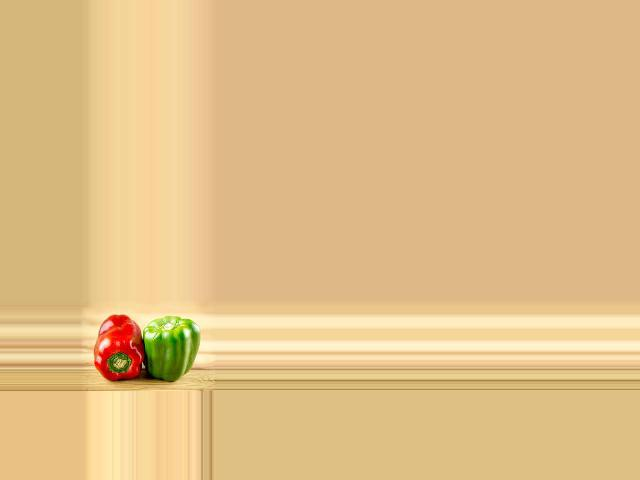bell_pepper: (92, 314, 146, 380)
